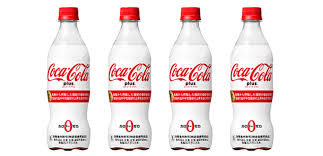coke-bottle-300ml: (163, 4, 217, 150), (225, 5, 274, 151), (45, 6, 94, 150), (105, 9, 154, 150)
